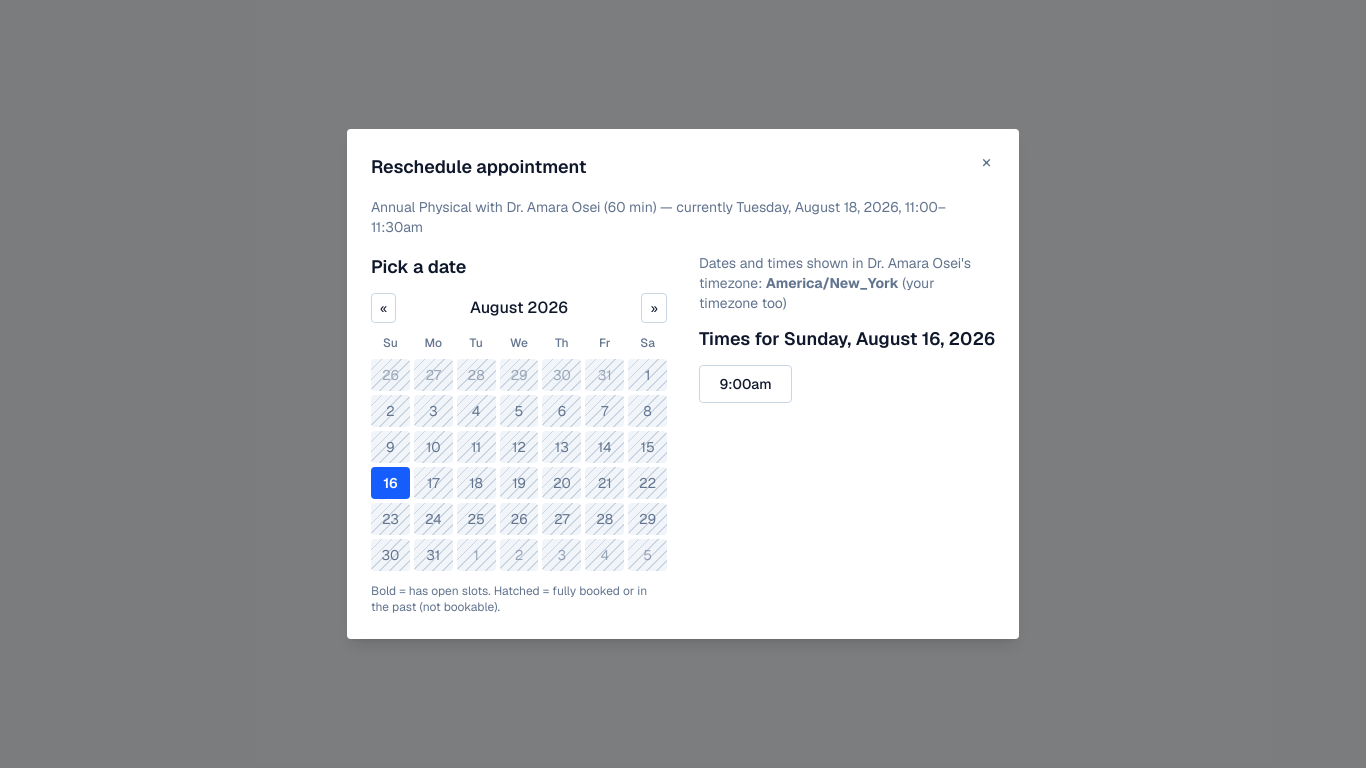
Test: RescheduleDialog › picking a slot shows the confirm step with the old time and the new time
Click the button "9:00am". click: {"x": 746, "y": 384}
box: [699,365,792,403]
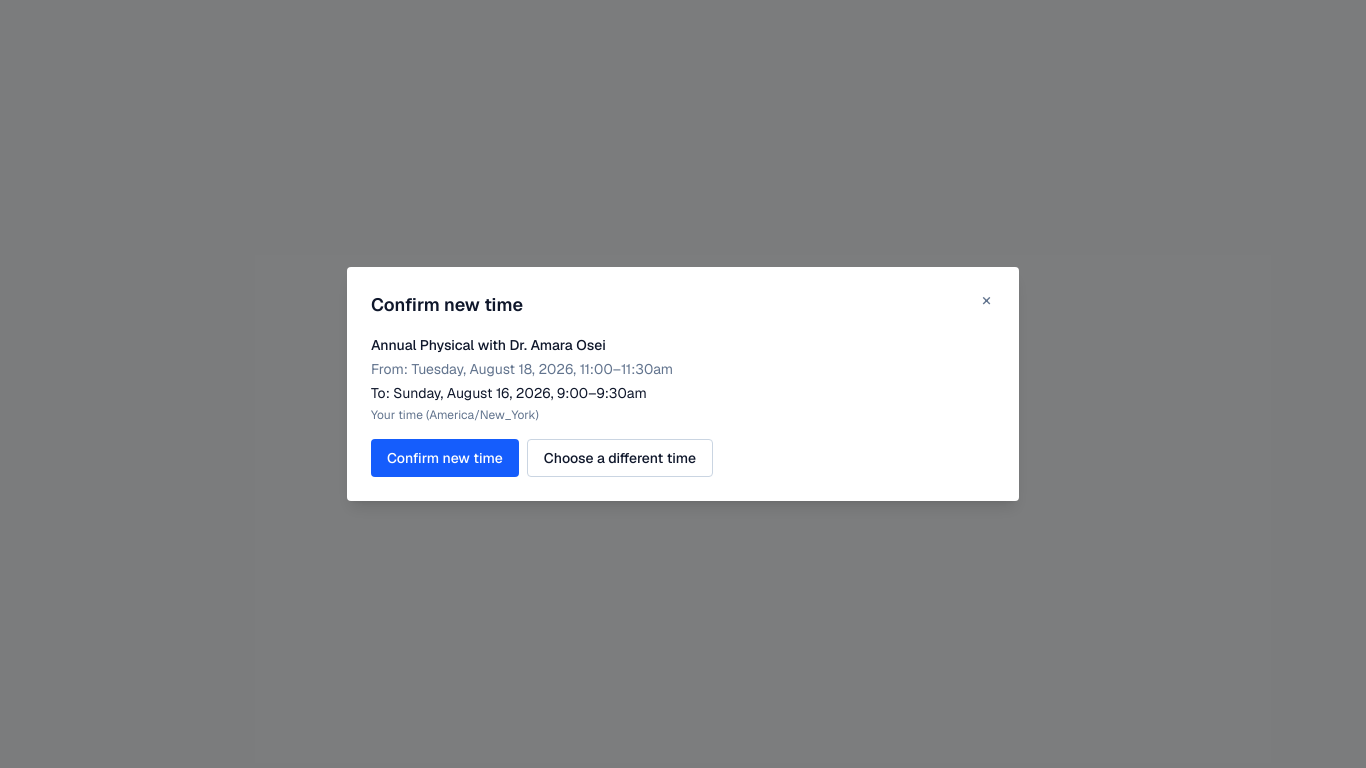
Now the heading "Confirm new time" is shown, box [371,291,523,319]
Now the text "From: Tuesday, August 18, 2026, 11:00–11:30am" is shown, box [371,360,673,378]
Now the text "To: Sunday, August 16, 2026, 9:00–9:30am" is shown, box [371,384,647,402]
